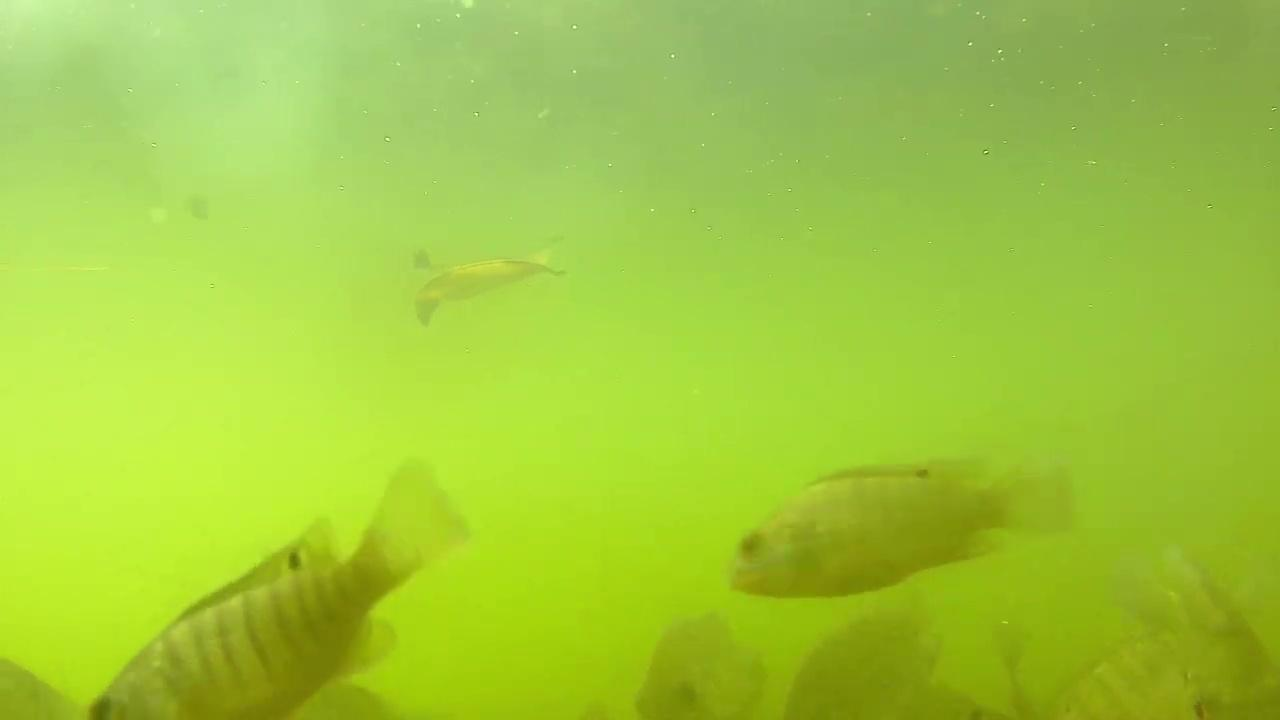Tilapia: (57, 462, 507, 720), (727, 440, 1084, 592), (639, 604, 762, 720)
